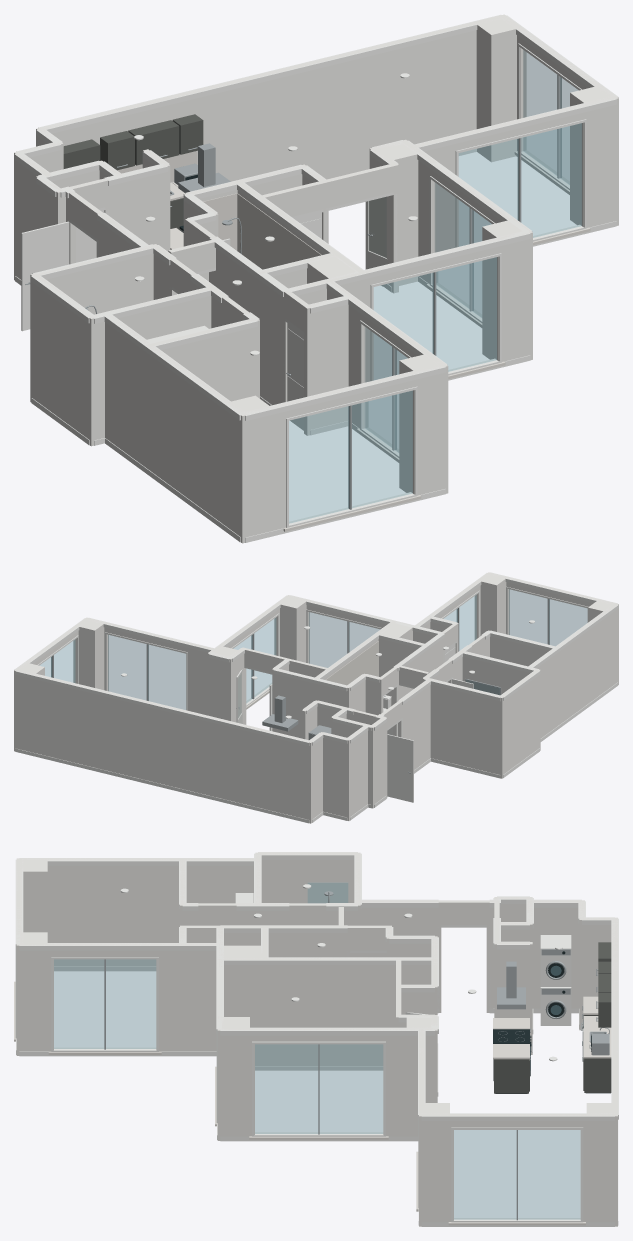
Rendered from bush-4101-architecture.glb.
3 renders of one model, top to bottom at view 1: azimuth 30°, elevation 25°; view 2: azimuth 150°, elevation 25°; view 3: azimuth 270°, elevation 25°, orthographic. The views are drawn at different scales.
Parts seen in each view (by area): view 1: Wall (×38), Window glazing (×6), Ceiling trim (×15), Structural pier (×6), Wall above doorway (×5), Upper kitchen cabinet (×4), Surface tile (×2), Painted door leaf, Frosted door glass, White baseboard, Window rail, Hood chimney; view 2: Wall (×28), Window glazing (×6), Ceiling trim (×14), Structural pier (×4), Wall above doorway (×5), Painted door leaf, White baseboard, Surface tile; view 3: Wall (×29), Window glazing (×3), Ceiling trim (×10), Wall above doorway (×5), White baseboard (×5), Structural pier (×2), Window rail (×4), Cabinet carcass (×2), Dryer housing, Window sill (×2), Washer housing, Glass shower screen (+3 smaller).
Part boxes in pixels (left/top/right/bottom): Wall (×38): left=14, top=14, right=618, bottom=543; Window glazing (×6): left=289, top=50, right=581, bottom=523; Ceiling trim (×15): left=31, top=14, right=618, bottom=420; Structural pier (×6): left=307, top=18, right=611, bottom=492; Wall above doorway (×5): left=67, top=162, right=398, bottom=333; Upper kitchen cabinet (×4): left=63, top=114, right=203, bottom=170; Surface tile (×2): left=203, top=193, right=321, bottom=269; Painted door leaf: left=21, top=221, right=69, bottom=331; Frosted door glass: left=368, top=196, right=386, bottom=258; White baseboard: left=105, top=438, right=240, bottom=542; Window rail: left=286, top=492, right=417, bottom=527; Hood chimney: left=198, top=143, right=215, bottom=186; Wall (×28): left=14, top=577, right=618, bottom=823; Window glazing (×6): left=40, top=589, right=587, bottom=709; Ceiling trim (×14): left=14, top=572, right=618, bottom=745; Structural pier (×4): left=78, top=574, right=506, bottom=689; Wall above doorway (×5): left=241, top=648, right=428, bottom=728; Painted door leaf: left=387, top=734, right=413, bottom=802; White baseboard: left=15, top=748, right=309, bottom=823; Surface tile: left=326, top=641, right=378, bottom=685; Wall (×29): left=16, top=852, right=617, bottom=1226; Window glazing (×3): left=54, top=959, right=580, bottom=1219; Ceiling trim (×10): left=19, top=852, right=618, bottom=1120; Wall above doorway (×5): left=180, top=900, right=492, bottom=950; White baseboard (×5): left=19, top=966, right=614, bottom=1226; Structural pier (×2): left=20, top=860, right=262, bottom=958; Window rail (×4): left=51, top=1041, right=582, bottom=1222; Cabinet carcass (×2): left=494, top=1058, right=611, bottom=1093; Dryer housing: left=540, top=935, right=571, bottom=986; Window sill (×2): left=249, top=1136, right=585, bottom=1225; Washer housing: left=540, top=987, right=571, bottom=1025; Glass shower screen: left=308, top=883, right=347, bottom=902.
Size of the model in its own units: 13.9 by 2.7 by 13.4.
